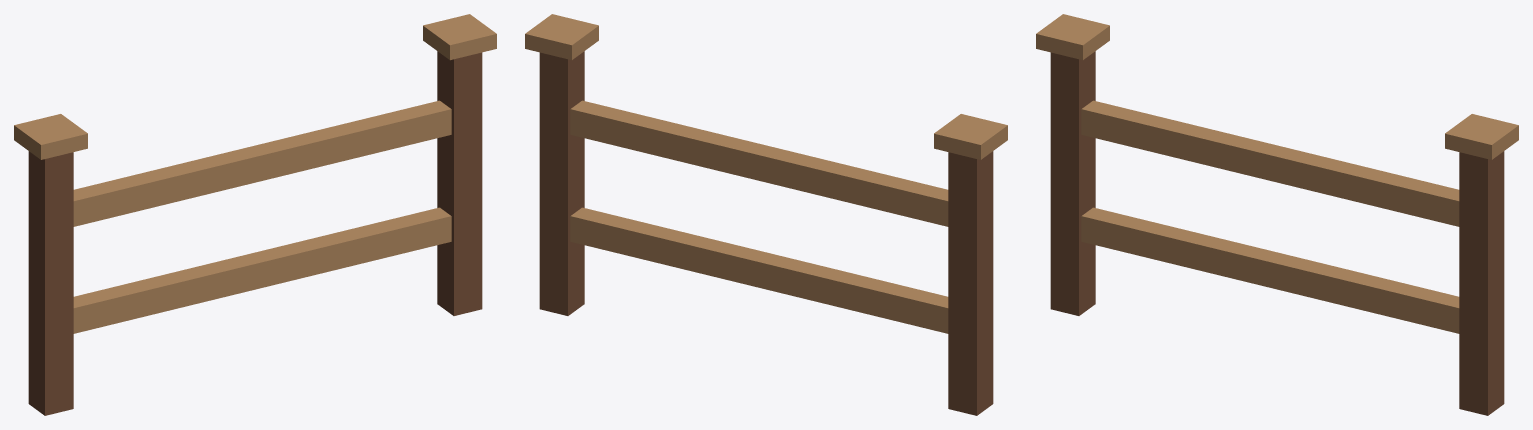
The model's file is fence.glb.
The picture shows the model from 3 angles, left to right: view 1: azimuth 30°, elevation 25°; view 2: azimuth 150°, elevation 25°; view 3: azimuth 330°, elevation 25°; orthographic projection.
Visible parts, largest first — view 1: fence; view 2: fence; view 3: fence.
Part boxes in pixels (left/top/right/bottom): fence: left=14, top=14, right=496, bottom=415; fence: left=525, top=14, right=1007, bottom=415; fence: left=1036, top=14, right=1518, bottom=415.
Size of the model in its own units: 2.23 by 1.29 by 0.23.
